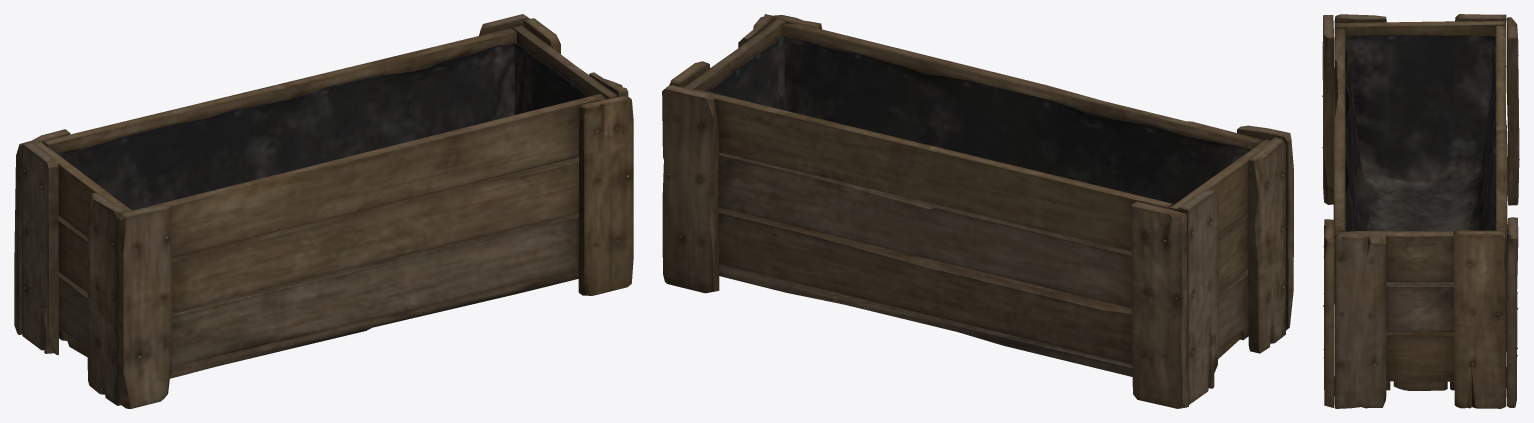
The model's file is planter_box_02.glb.
3 views of the same model, side by side, from view 1: azimuth 30°, elevation 25°; view 2: azimuth 150°, elevation 25°; view 3: azimuth 270°, elevation 25° (orthographic). The views are drawn at different scales.
Parts seen in each view (by area): view 1: planter_box_02; view 2: planter_box_02; view 3: planter_box_02.
Boxes of the visible parts, box(x1,y1,x2,y2) form: planter_box_02: box(14, 14, 633, 408); planter_box_02: box(662, 14, 1293, 408); planter_box_02: box(1322, 14, 1519, 408).
Bounding box in the file's own units: 1.25 × 0.4525 × 0.4653.
Materials: 1 (1 with a texture image).
